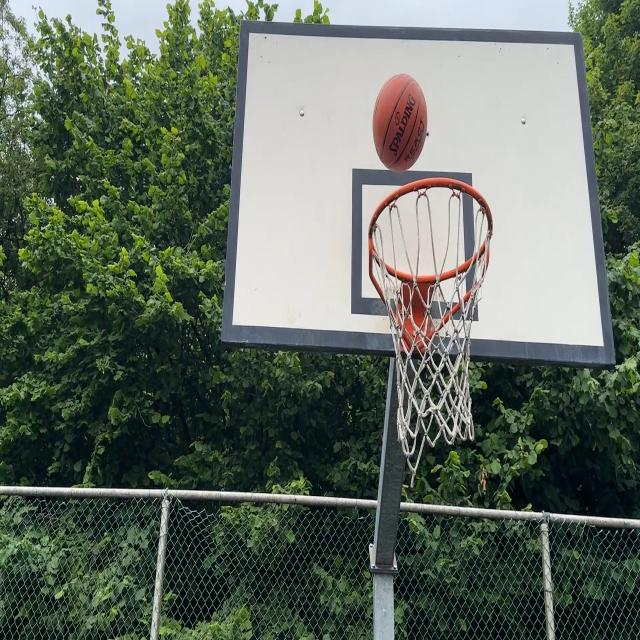Basketball: (372, 74, 428, 172)
